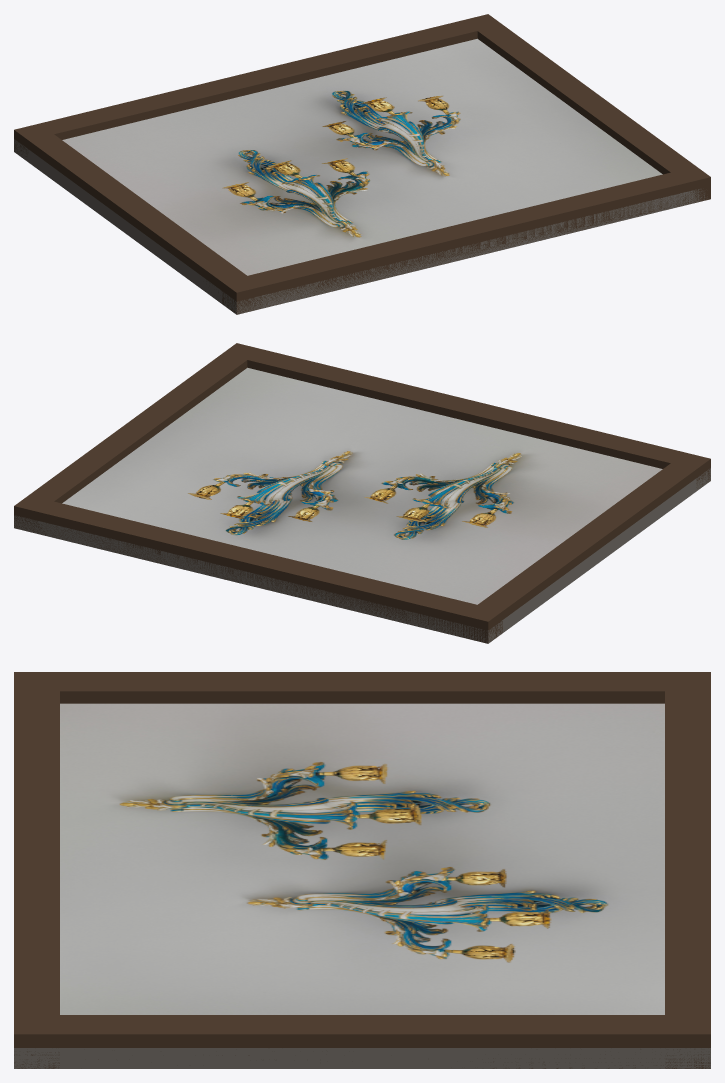
Rendered from framed_artwork.glb.
3 renders of one model, top to bottom at view 1: azimuth 30°, elevation 25°; view 2: azimuth 150°, elevation 25°; view 3: azimuth 270°, elevation 25°, orthographic. The views are drawn at different scales.
Visible parts, largest first — view 1: Artwork_Image_Front, Frame_Bottom, Frame_Top, Back_Board, Frame_Left, Frame_Right; view 2: Artwork_Image_Front, Frame_Top, Frame_Bottom, Back_Board, Frame_Left, Frame_Right; view 3: Artwork_Image_Front, Frame_Right, Frame_Left, Frame_Bottom, Frame_Top, Back_Board.
Boxes of the visible parts, bbox=[...] form: Artwork_Image_Front: bbox=[62, 38, 662, 275]; Frame_Bottom: bbox=[222, 166, 710, 313]; Frame_Top: bbox=[14, 14, 501, 156]; Back_Board: bbox=[14, 139, 707, 314]; Frame_Left: bbox=[16, 123, 261, 314]; Frame_Right: bbox=[463, 14, 710, 202]; Artwork_Image_Front: bbox=[62, 367, 662, 604]; Frame_Top: bbox=[14, 495, 502, 641]; Frame_Bottom: bbox=[222, 343, 710, 488]; Back_Board: bbox=[14, 468, 710, 643]; Frame_Left: bbox=[463, 452, 700, 643]; Frame_Right: bbox=[14, 345, 261, 533]; Artwork_Image_Front: bbox=[60, 703, 664, 1014]; Frame_Right: bbox=[14, 1015, 710, 1068]; Frame_Left: bbox=[14, 672, 710, 703]; Frame_Bottom: bbox=[14, 672, 59, 1068]; Frame_Top: bbox=[665, 672, 710, 1068]; Back_Board: bbox=[14, 1048, 710, 1068].
Size of the model in its own units: 2.24 by 0.1 by 1.82.
Materials: 3 (1 with a texture image).
